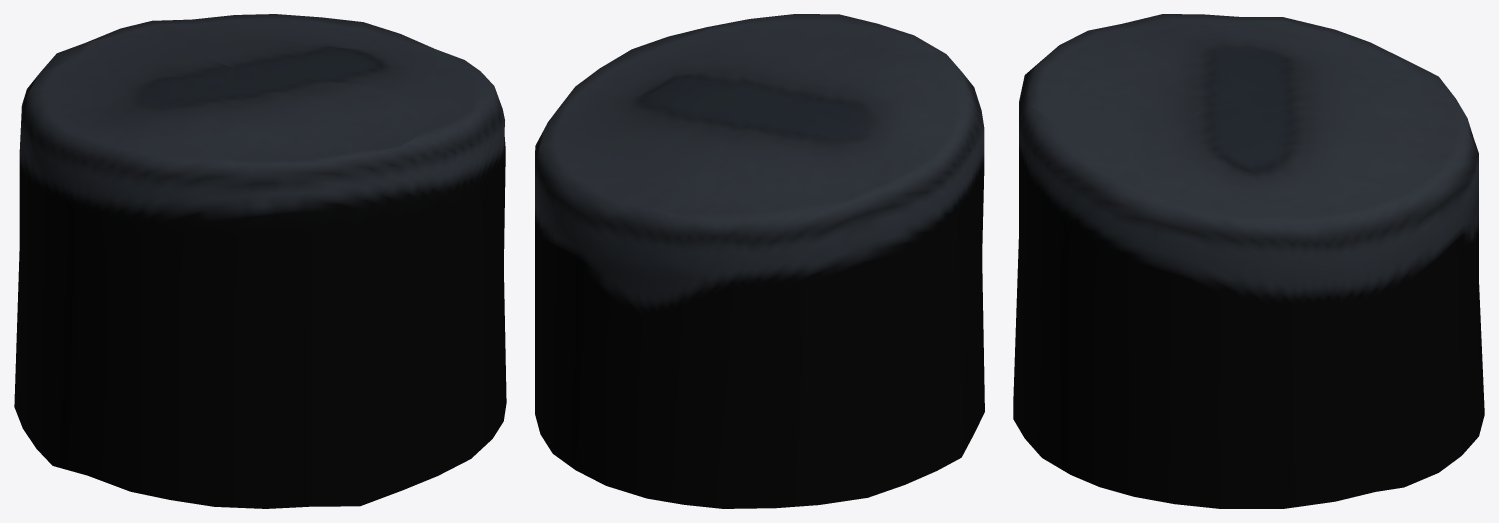
Rendered from right_app_button.obj.
The picture shows the model from 3 angles, left to right: view 1: azimuth 30°, elevation 25°; view 2: azimuth 150°, elevation 25°; view 3: azimuth 270°, elevation 25°; orthographic projection. The views are drawn at different scales.
Visible parts, largest first — view 1: right_app_button; view 2: right_app_button; view 3: right_app_button.
Boxes of the visible parts, x1,y1,x2,y2 form: right_app_button: (14,14,506,508); right_app_button: (535,14,984,508); right_app_button: (1013,14,1484,508).
Bounding box in the file's own units: 0.0081 × 0.0063 × 0.0082.
1 material, 1 textured.
